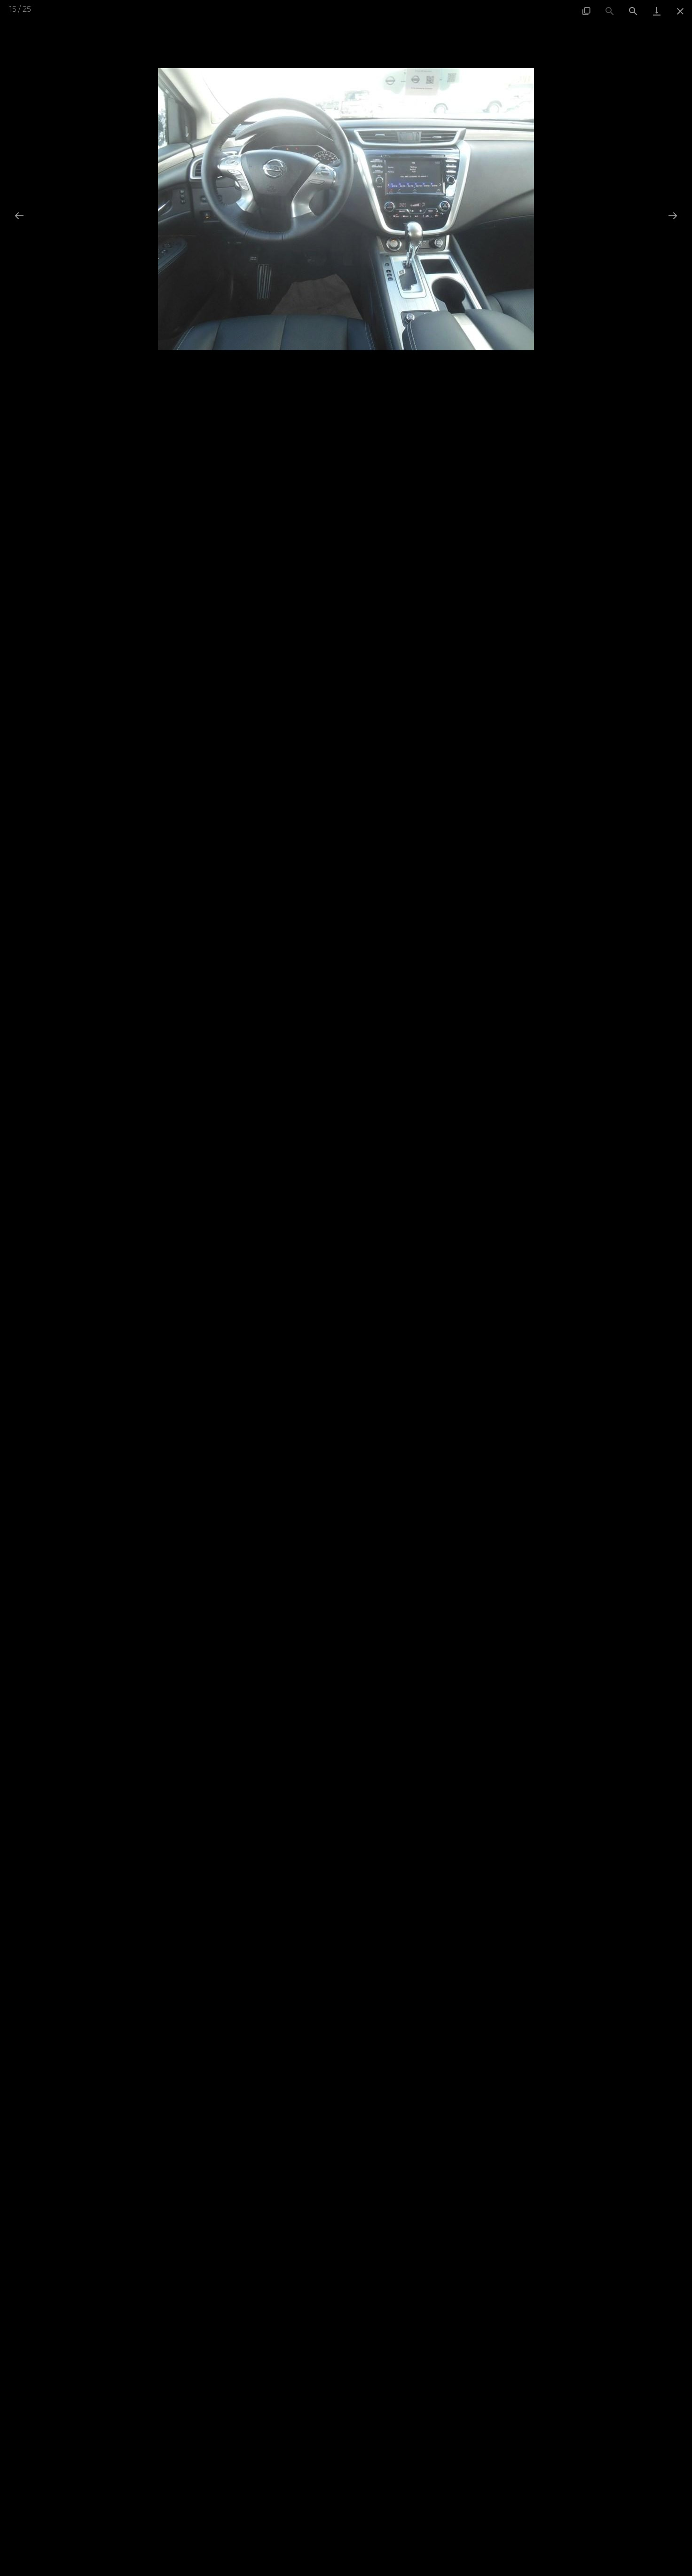car: (669, 212, 677, 220)
